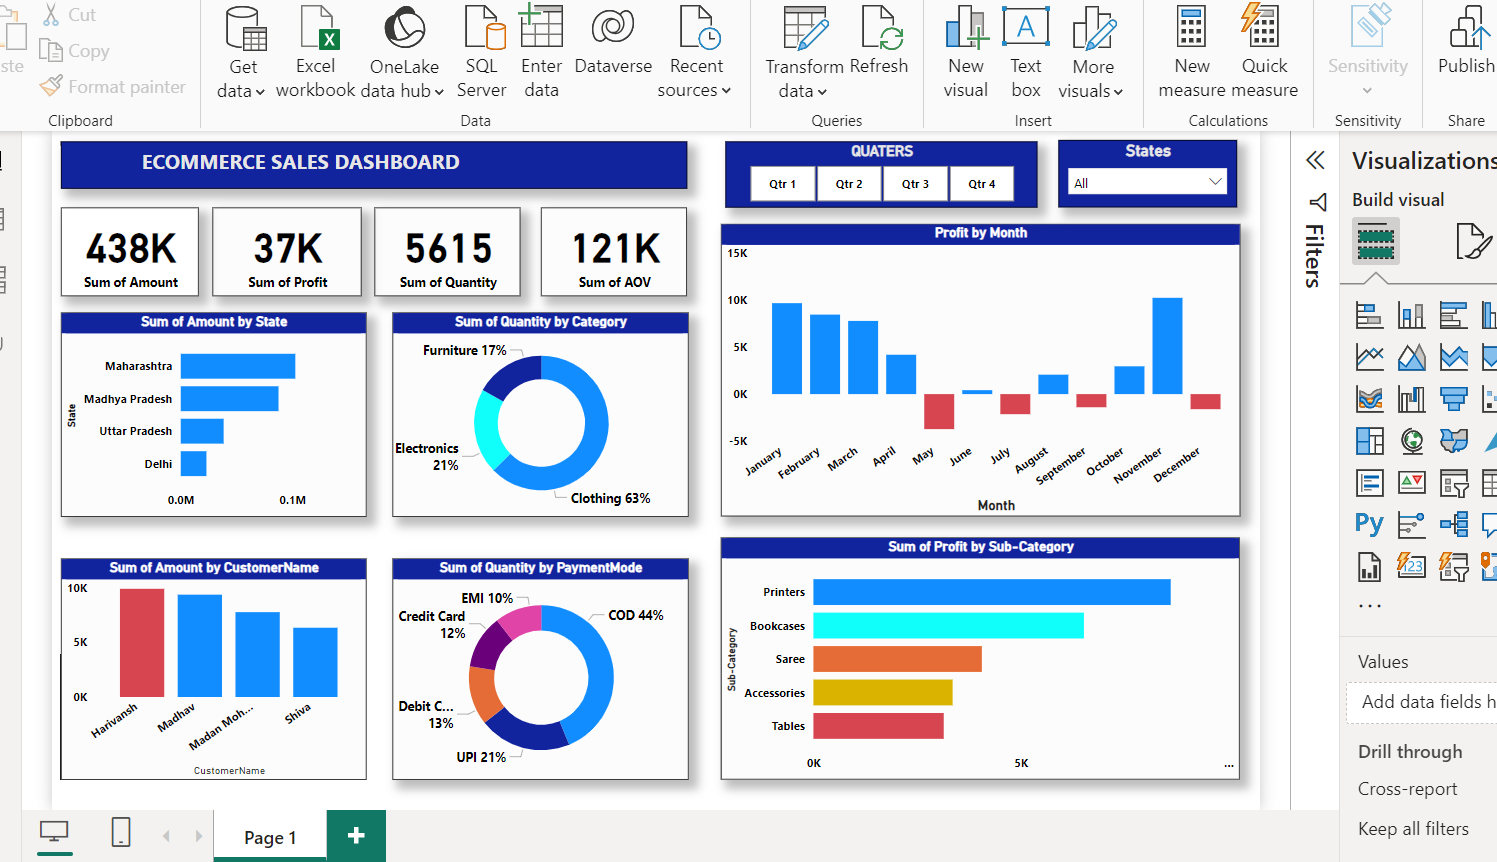

The dashboard page shown, as its layout file describes it:
{"tool":"powerbi","page":{"name":"Page 1","canvas":[1280,720],"ordinal":0},"visuals":[{"type":"textbox","box":[10.1,11.7,664.3,50.3],"z":0},{"type":"columnChart","title":"Profit by Month","fields":{"Y":["Details.Profit"],"Category":["Orders.Order Date.Variation.Date Hierarchy.Month"]},"box":[709.4,98.6,550.4,310.2],"z":1000},{"type":"barChart","fields":{"Category":["Details.Sub-Category"],"Y":["Details.Profit"]},"box":[709.6,431.1,550.2,256.7],"z":2000},{"type":"donutChart","fields":{"Category":["Details.Category"],"Y":["Details.Quantity"]},"box":[360.7,192.9,313.7,216.4],"z":3000},{"type":"donutChart","fields":{"Y":["Details.Quantity"],"Category":["Details.PaymentMode"]},"box":[360.7,452.9,313.7,234.9],"z":4000},{"type":"card","fields":{"Values":["Details.Amount"]},"box":[10.1,80.5,146,93.9],"z":5000},{"type":"card","fields":{"Values":["Details.Quantity"]},"box":[342.2,80.5,154.3,93.9],"z":6000},{"type":"card","fields":{"Values":["Details.Profit"]},"box":[169.4,80.5,157.7,93.9],"z":7000},{"type":"card","fields":{"Values":["Details.AOV"]},"box":[518.4,80.5,154.3,93.9],"z":8000},{"type":"barChart","fields":{"Category":["Orders.State"],"Y":["Details.Amount"]},"box":[10.1,192.9,323.8,216.4],"z":9000},{"type":"columnChart","fields":{"Category":["Orders.CustomerName"],"Y":["Details.Amount"]},"box":[10.1,452.9,323.8,234.9],"z":10000},{"type":"slicer","title":"QUATERS","fields":{"Values":["Orders.Order Date.Variation.Date Hierarchy.Quarter"]},"box":[714.2,11.1,330.8,70],"z":11000},{"type":"slicer","title":"States","fields":{"Values":["Orders.State"]},"box":[1067.3,9.5,189.3,71.6],"z":12000}]}

Visuals, with their boxes on the page's 1280x720 design canvas (x1, y1, x2, y2). These are canvas units, not pixel positions in the 1497x862 screenshot, which may show the page scaled, cropped or inside an application window:
textbox: rect(10, 12, 674, 62)
"Profit by Month" columnChart: rect(709, 99, 1260, 409)
barChart - Details.Sub-Category x Details.Profit: rect(710, 431, 1260, 688)
donutChart - Details.Category x Details.Quantity: rect(361, 193, 674, 409)
donutChart - Details.Quantity x Details.PaymentMode: rect(361, 453, 674, 688)
card - Details.Amount: rect(10, 80, 156, 174)
card - Details.Quantity: rect(342, 80, 496, 174)
card - Details.Profit: rect(169, 80, 327, 174)
card - Details.AOV: rect(518, 80, 673, 174)
barChart - Orders.State x Details.Amount: rect(10, 193, 334, 409)
columnChart - Orders.CustomerName x Details.Amount: rect(10, 453, 334, 688)
"QUATERS" slicer: rect(714, 11, 1045, 81)
"States" slicer: rect(1067, 10, 1257, 81)
